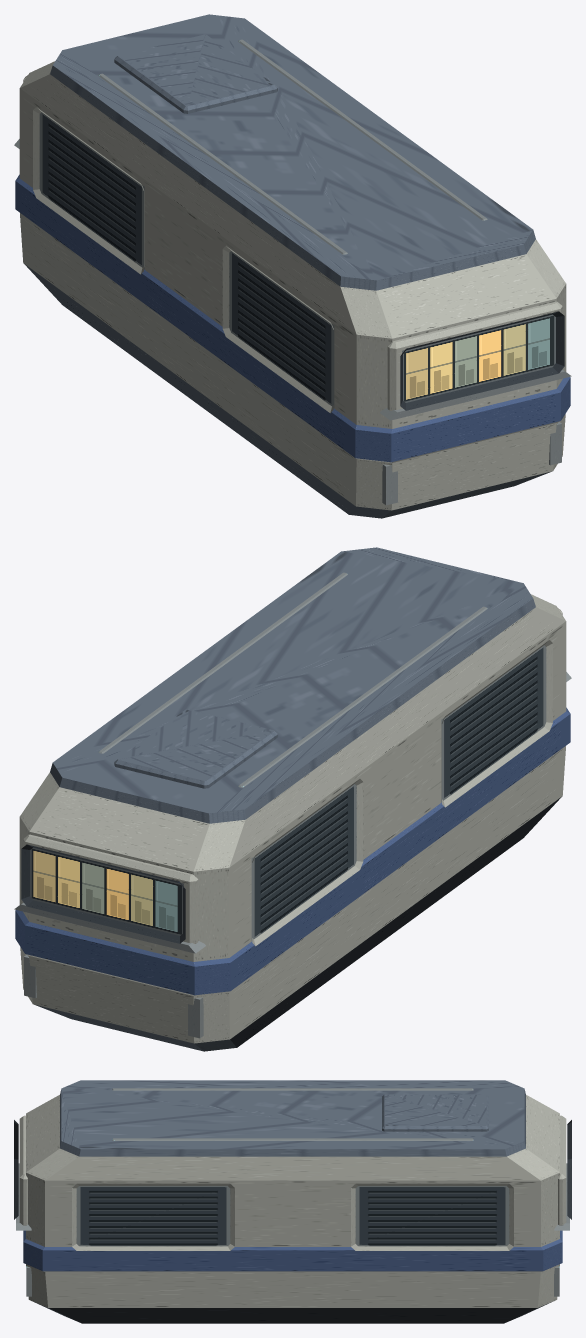
The model's file is LabWing6m.fbx.
3 renders of one model, top to bottom at view 1: azimuth 30°, elevation 25°; view 2: azimuth 150°, elevation 25°; view 3: azimuth 270°, elevation 25°, orthographic. The views are drawn at different scales.
Parts seen in each view (by area): view 1: LabWing6m; view 2: LabWing6m; view 3: LabWing6m.
Boxes of the visible parts, left/top/right/bottom form: LabWing6m: left=14, top=14, right=571, bottom=518; LabWing6m: left=14, top=547, right=571, bottom=1051; LabWing6m: left=14, top=1080, right=571, bottom=1323.
Size of the model in its own units: 628 by 677 by 1880.
